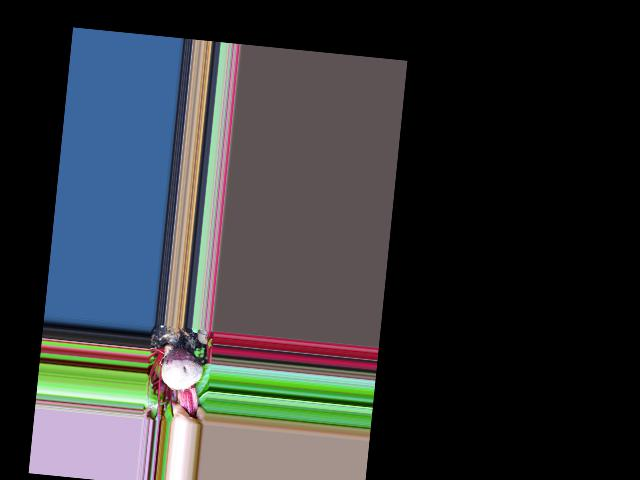beet: (156, 325, 206, 418)
